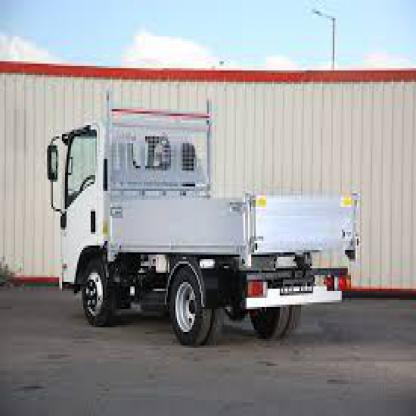tiper: (35, 102, 361, 357)
